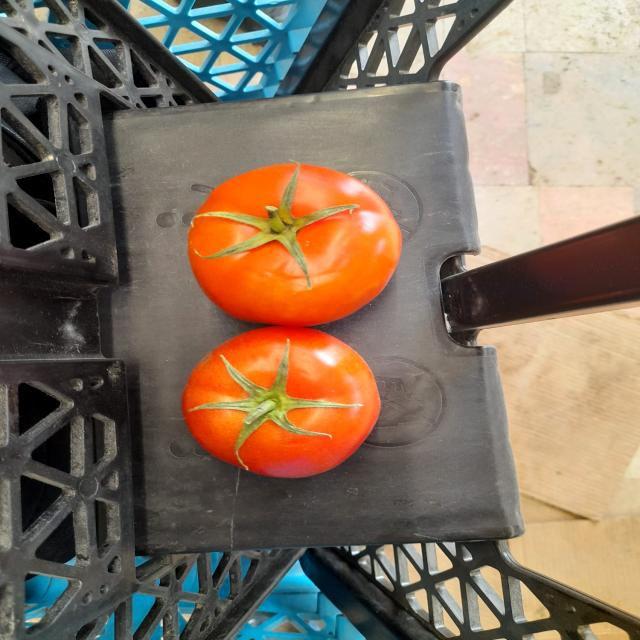tomato: (164, 321, 406, 484), (185, 154, 402, 328)
